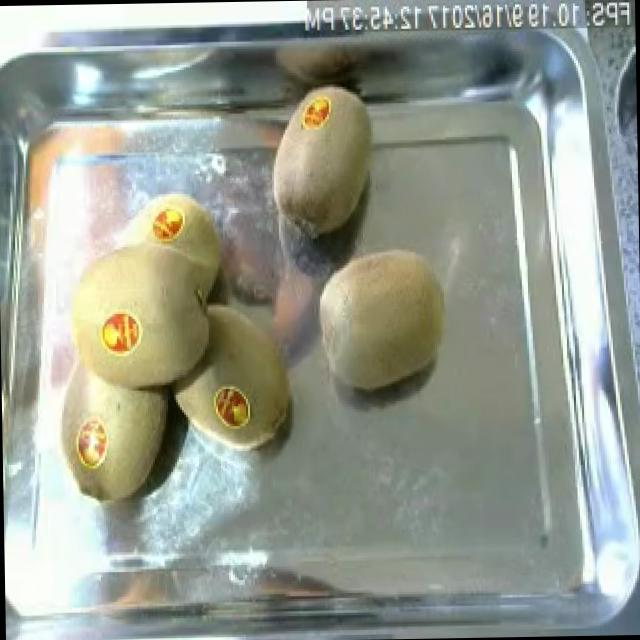Fruit: (64, 178, 232, 404), (306, 235, 458, 402), (260, 74, 382, 246)
